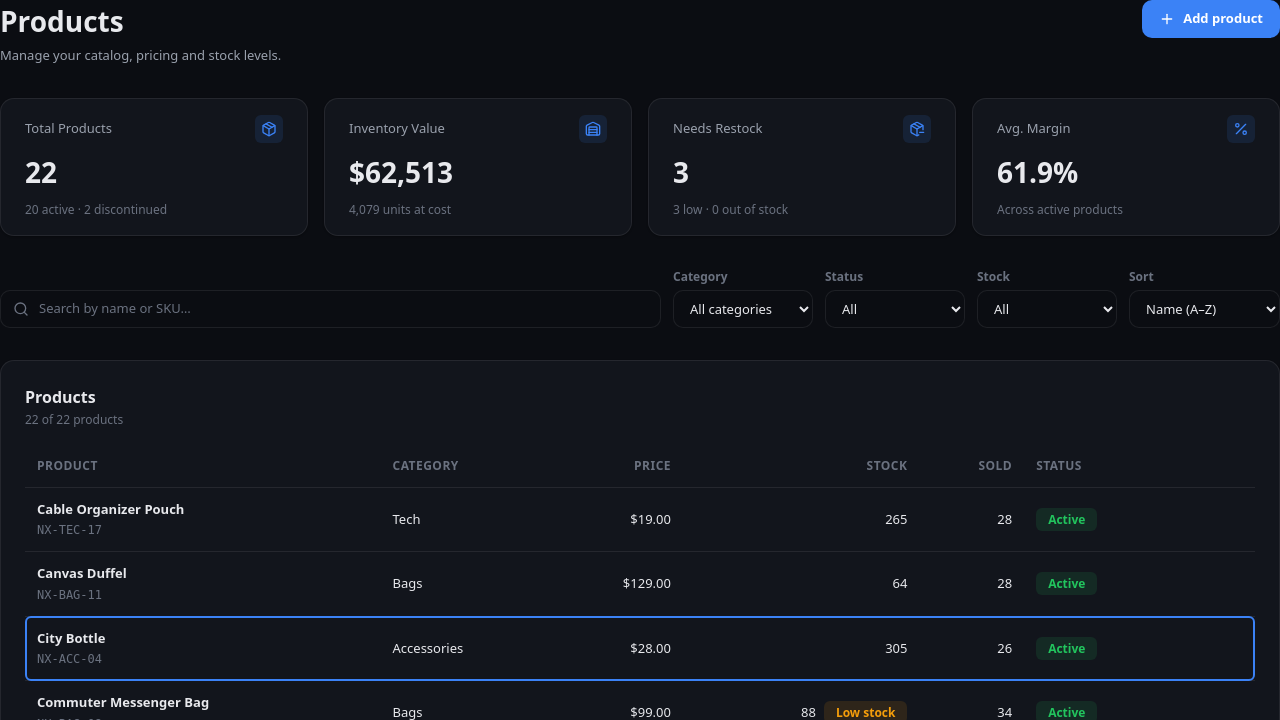
Scenario: Products page: details drawer › closes with Escape and the close button, returning focus to the row
Step 1. Click the button with aria-label "View product " → {"x": 71, "y": 638}, box 37,628 -> 105,648
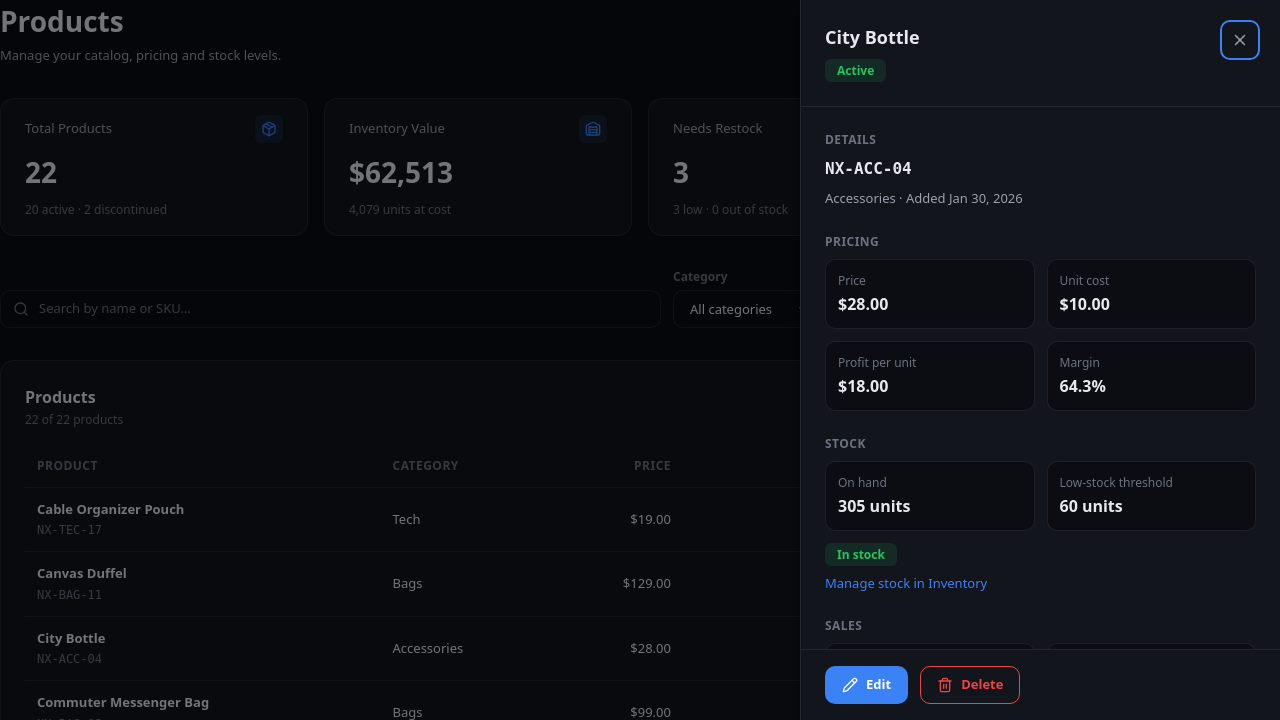
Step 2. Press Escape in the button named "Close product details", box 1224,24 -> 1256,56
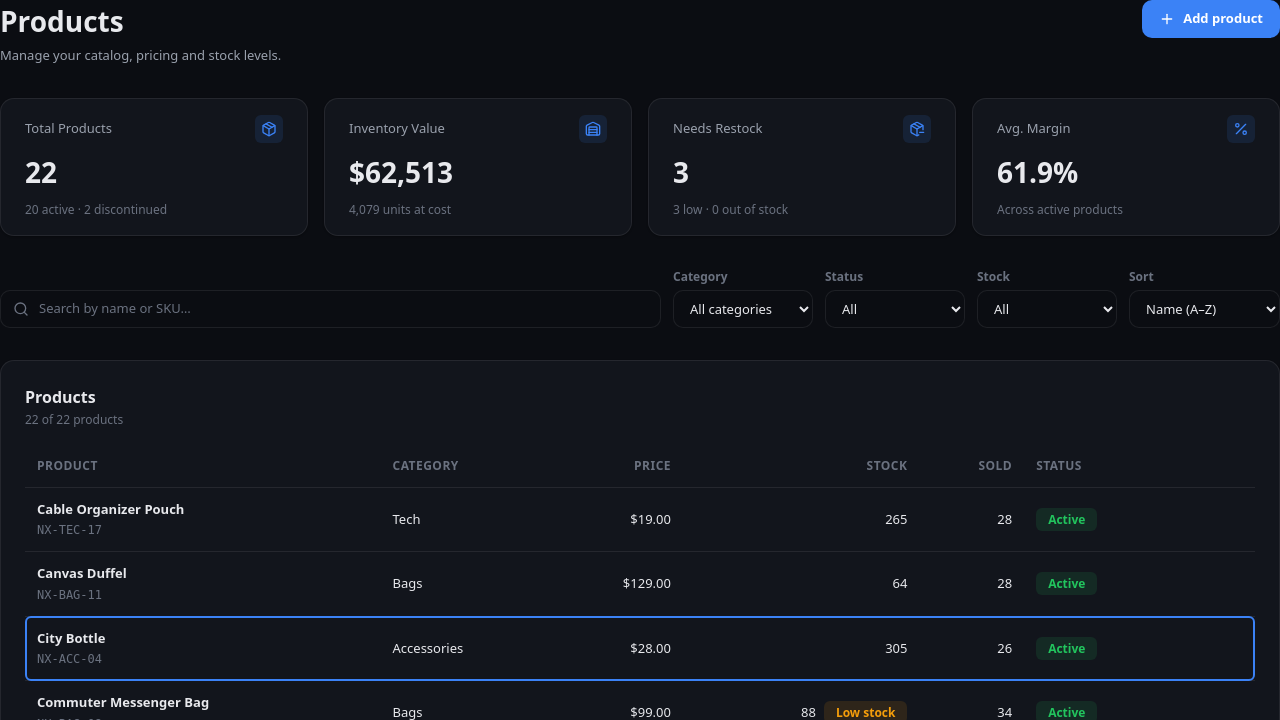
expect the dialog is gone: met
Step 3. Click the button with aria-label "View product " → {"x": 71, "y": 638}, box 37,628 -> 105,648
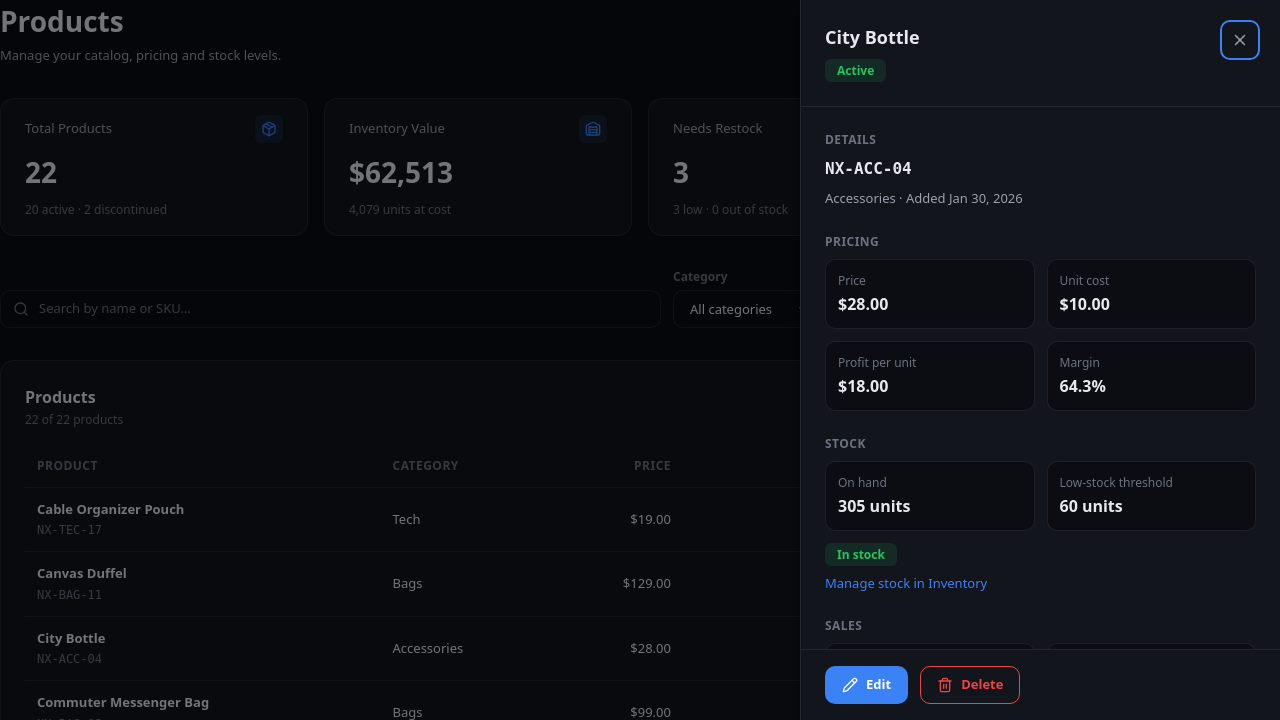
Step 4. Click the button named "Close product details" → {"x": 1240, "y": 40}, box 1224,24 -> 1256,56
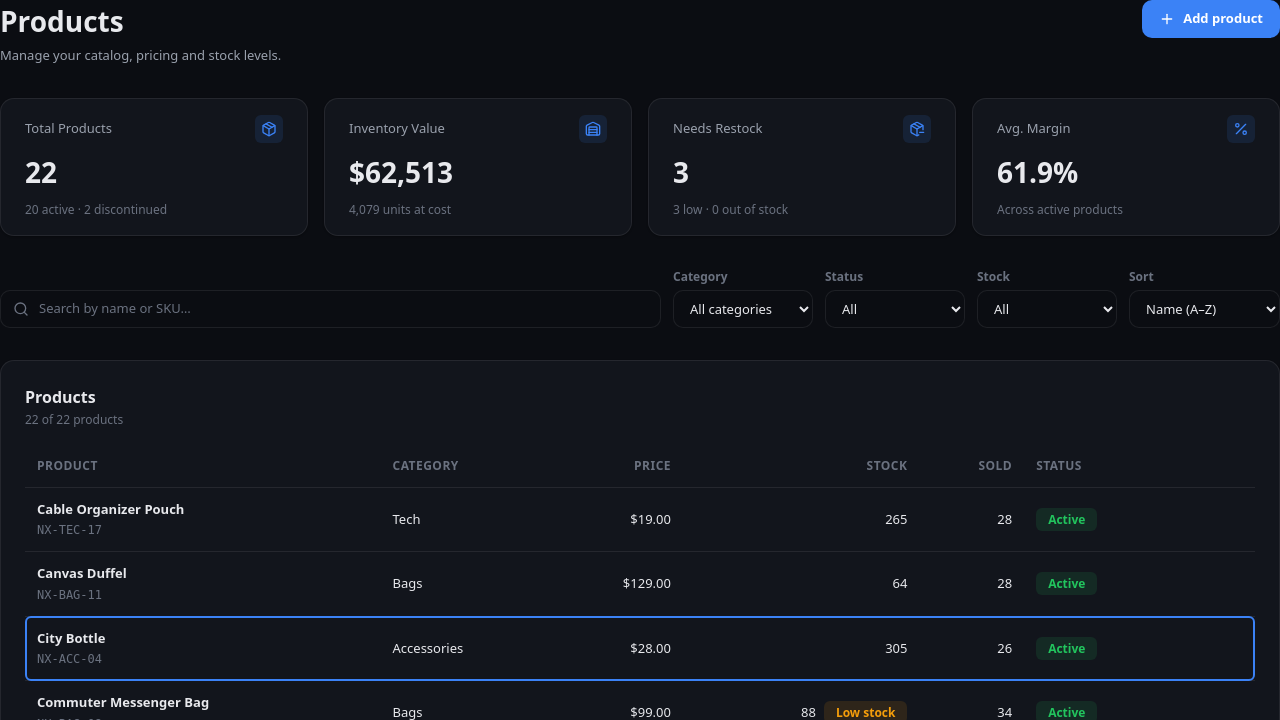
expect the dialog is gone: met
